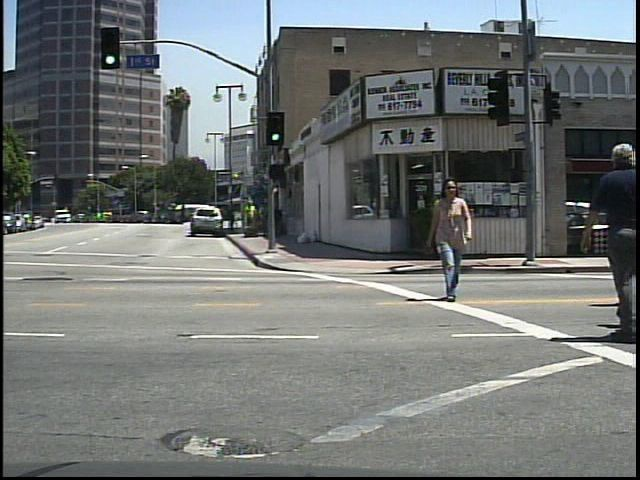person: (424, 173, 476, 303)
